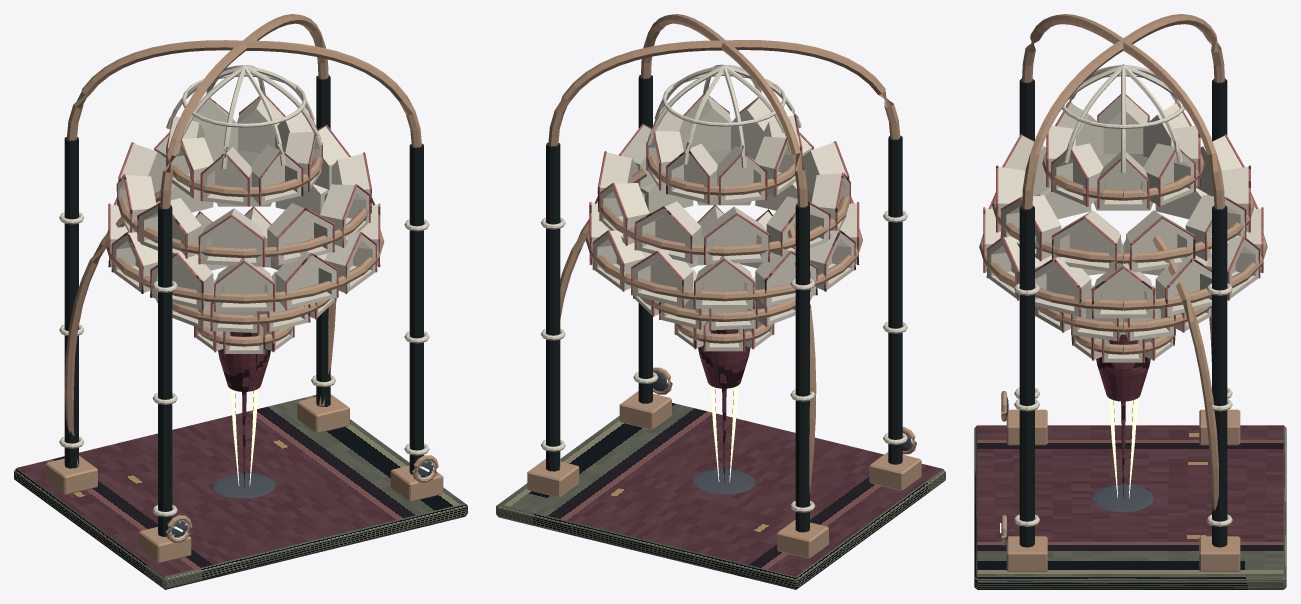
File: foundry_pressure_canopy.glb
The picture shows the model from 3 angles, left to right: view 1: azimuth 30°, elevation 25°; view 2: azimuth 150°, elevation 25°; view 3: azimuth 270°, elevation 25°; orthographic projection. The views are drawn at different scales.
Parts seen in each view (by area): view 1: foundry_pressure_canopy_petrol, foundry_pressure_canopy_warm, foundry_pressure_canopy_worn, foundry_pressure_canopy_suture, foundry_pressure_canopy_bruised, foundry_pressure_canopy_deep, foundry_pressure_canopy_sick; view 2: foundry_pressure_canopy_petrol, foundry_pressure_canopy_warm, foundry_pressure_canopy_worn, foundry_pressure_canopy_suture, foundry_pressure_canopy_bruised, foundry_pressure_canopy_deep, foundry_pressure_canopy_sick; view 3: foundry_pressure_canopy_petrol, foundry_pressure_canopy_warm, foundry_pressure_canopy_worn, foundry_pressure_canopy_suture, foundry_pressure_canopy_bruised, foundry_pressure_canopy_deep, foundry_pressure_canopy_sick.
Part boxes in pixels (box(x1,y1,x2,y2)): foundry_pressure_canopy_petrol: box(14, 75, 467, 589); foundry_pressure_canopy_warm: box(59, 65, 435, 539); foundry_pressure_canopy_worn: box(45, 14, 443, 563); foundry_pressure_canopy_suture: box(108, 94, 380, 354); foundry_pressure_canopy_bruised: box(218, 332, 270, 487); foundry_pressure_canopy_deep: box(170, 461, 433, 537); foundry_pressure_canopy_sick: box(174, 388, 429, 531); foundry_pressure_canopy_petrol: box(496, 75, 945, 589); foundry_pressure_canopy_warm: box(541, 64, 912, 512); foundry_pressure_canopy_worn: box(527, 14, 921, 558); foundry_pressure_canopy_suture: box(589, 94, 859, 351); foundry_pressure_canopy_bruised: box(698, 329, 750, 483); foundry_pressure_canopy_deep: box(653, 372, 911, 494); foundry_pressure_canopy_sick: box(710, 385, 738, 481); foundry_pressure_canopy_petrol: box(974, 78, 1286, 589); foundry_pressure_canopy_warm: box(985, 64, 1261, 538); foundry_pressure_canopy_worn: box(979, 14, 1267, 571); foundry_pressure_canopy_suture: box(983, 94, 1263, 362); foundry_pressure_canopy_bruised: box(1096, 334, 1150, 499); foundry_pressure_canopy_deep: box(1005, 396, 1153, 539); foundry_pressure_canopy_sick: box(1000, 398, 1137, 532).
Bounding box in the file's own units: 5.7 × 8.2 × 4.9.
7 materials, 3 textured.
